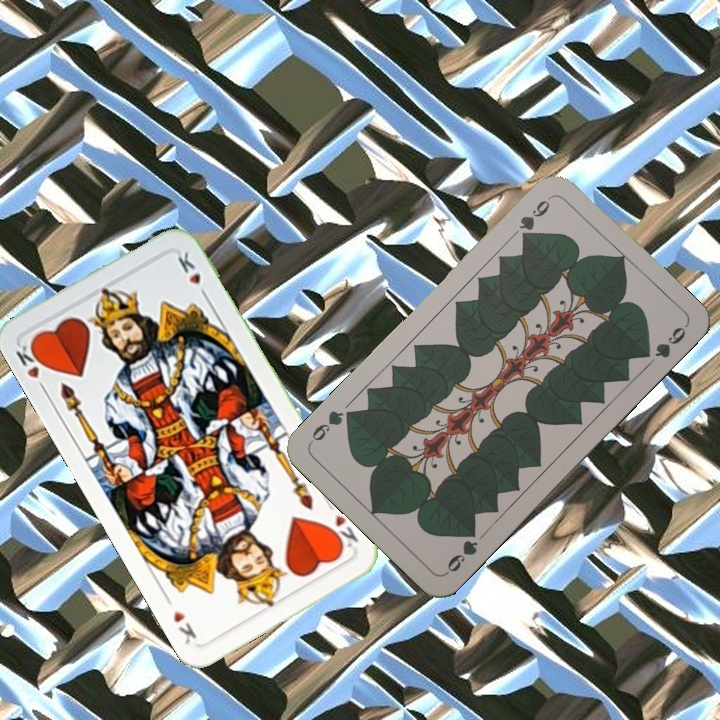G9: (441, 524, 481, 577), (515, 192, 554, 244)
HK: (11, 336, 50, 396), (322, 497, 361, 554)
